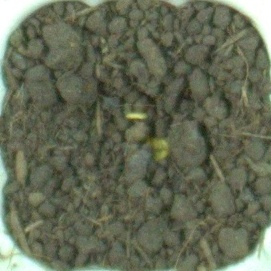chilli seed: (146, 133, 171, 164), (124, 107, 152, 123)
